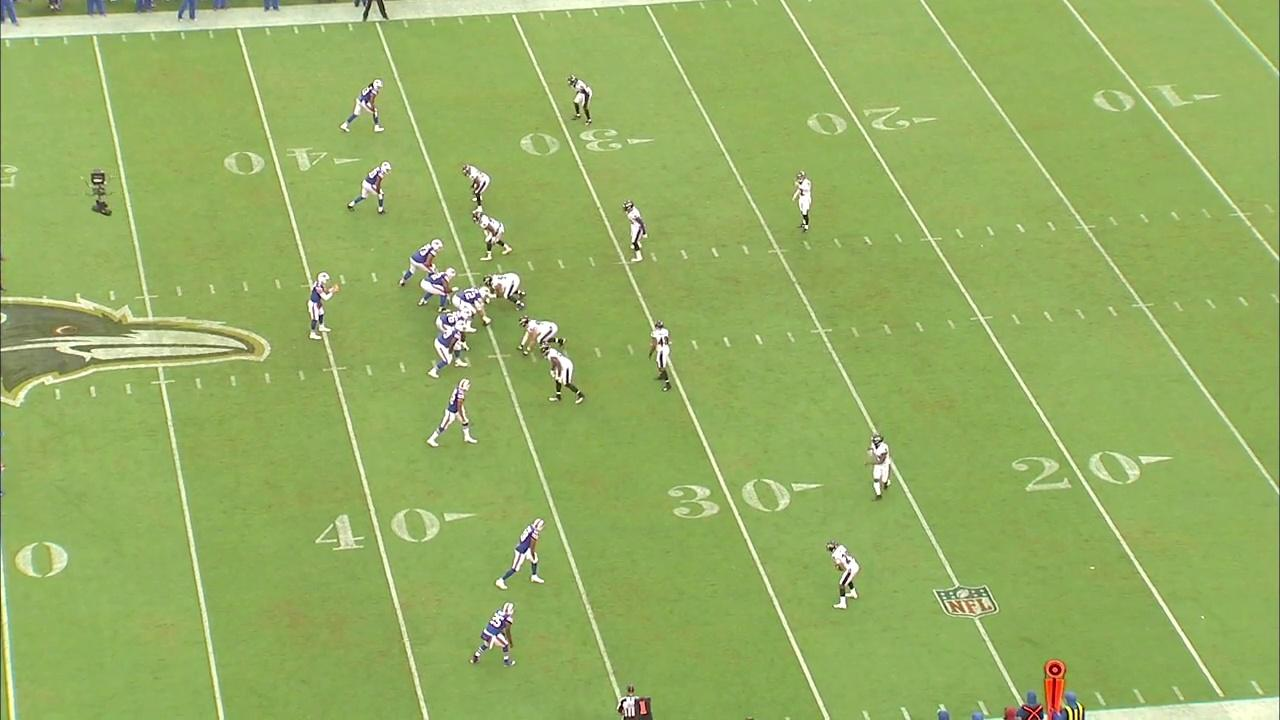defense: (537, 343, 586, 406), (824, 538, 860, 609), (471, 208, 513, 263), (647, 319, 678, 392), (514, 315, 568, 356), (866, 435, 893, 503), (620, 199, 648, 264), (482, 272, 528, 311), (460, 161, 492, 214), (791, 169, 815, 235), (566, 72, 595, 126)
oline: (427, 319, 469, 379), (397, 236, 445, 288), (449, 284, 494, 334), (416, 267, 459, 313), (434, 308, 473, 353)
qb: (301, 268, 343, 342)
ref: (613, 683, 648, 720)
skill: (494, 515, 551, 590), (426, 378, 479, 449), (468, 603, 519, 671), (343, 158, 395, 218), (338, 78, 390, 136)
